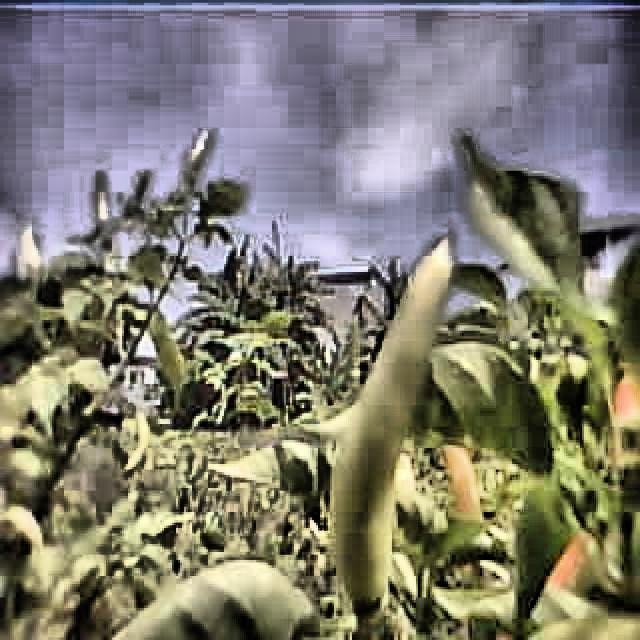Cabai: (445, 424, 503, 533)
